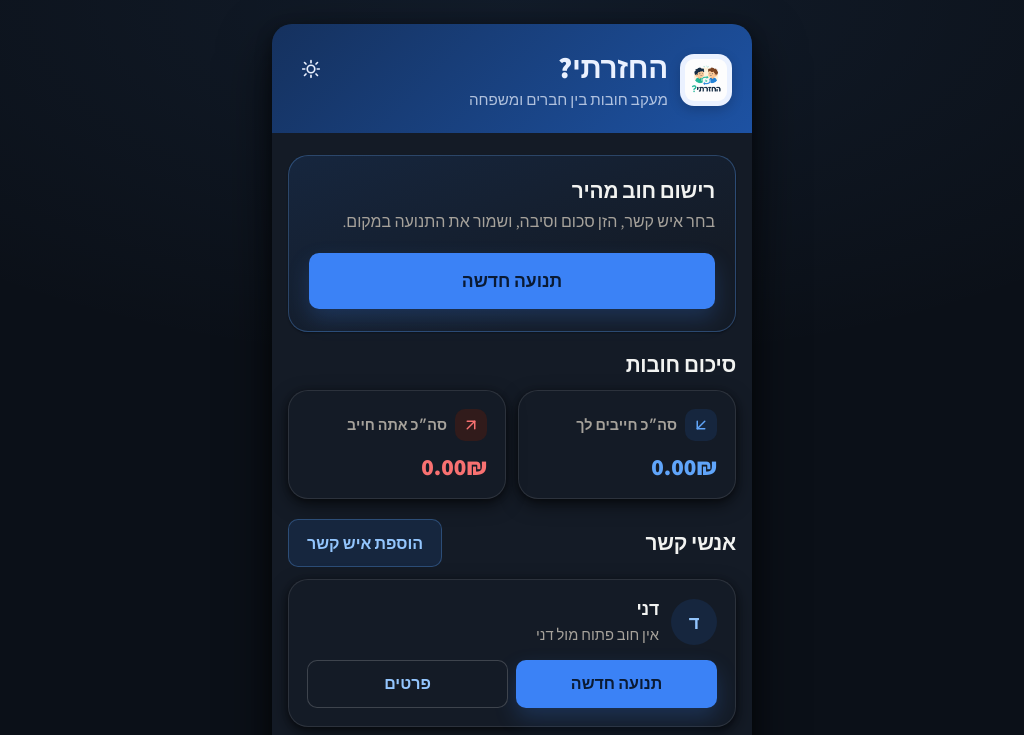
Test: App › opens a member-card transaction with the member preselected
The image size is (1024, 735).
Click the button "תנועה חדשה" below "אין חוב פתוח מול דני": (616, 684) [516, 660, 717, 708]
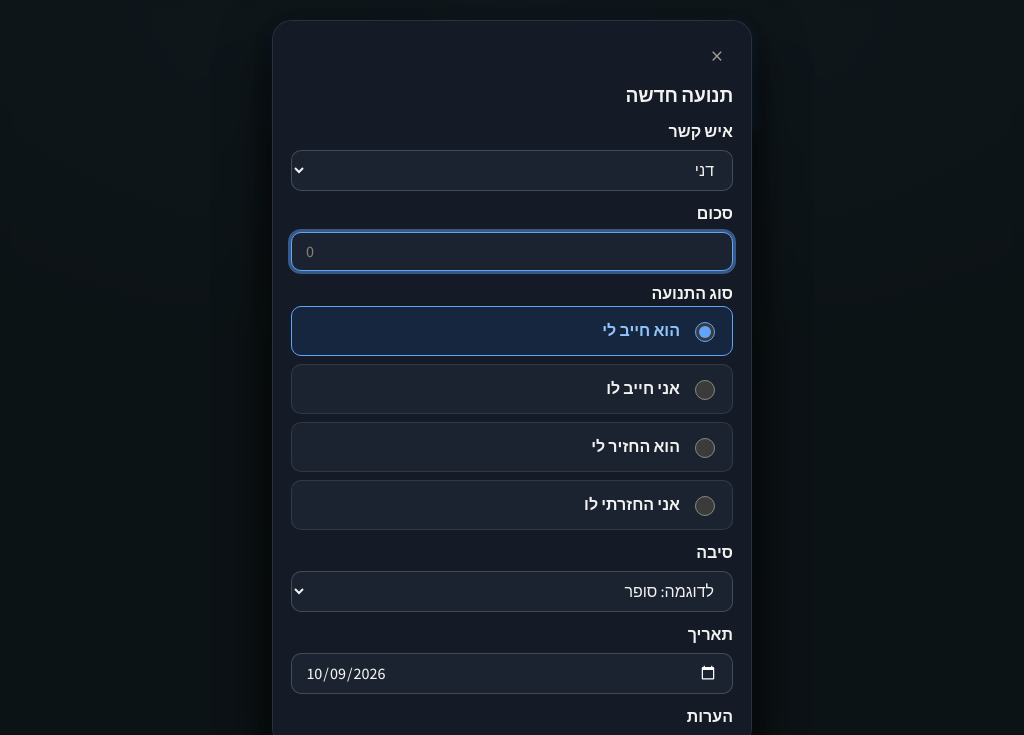
Check: the dropdown labelled "איש קשר" shows "דני", box [291, 150, 733, 191]
